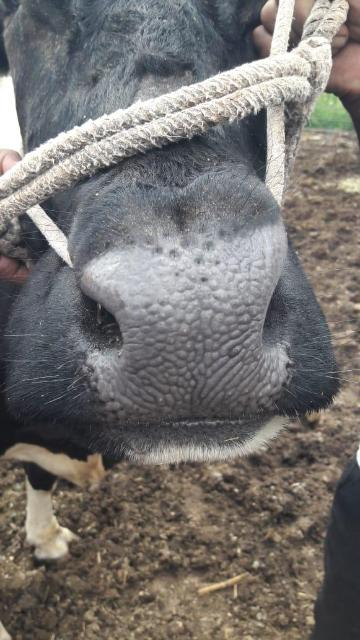Muzzle: (102, 264, 280, 406)
